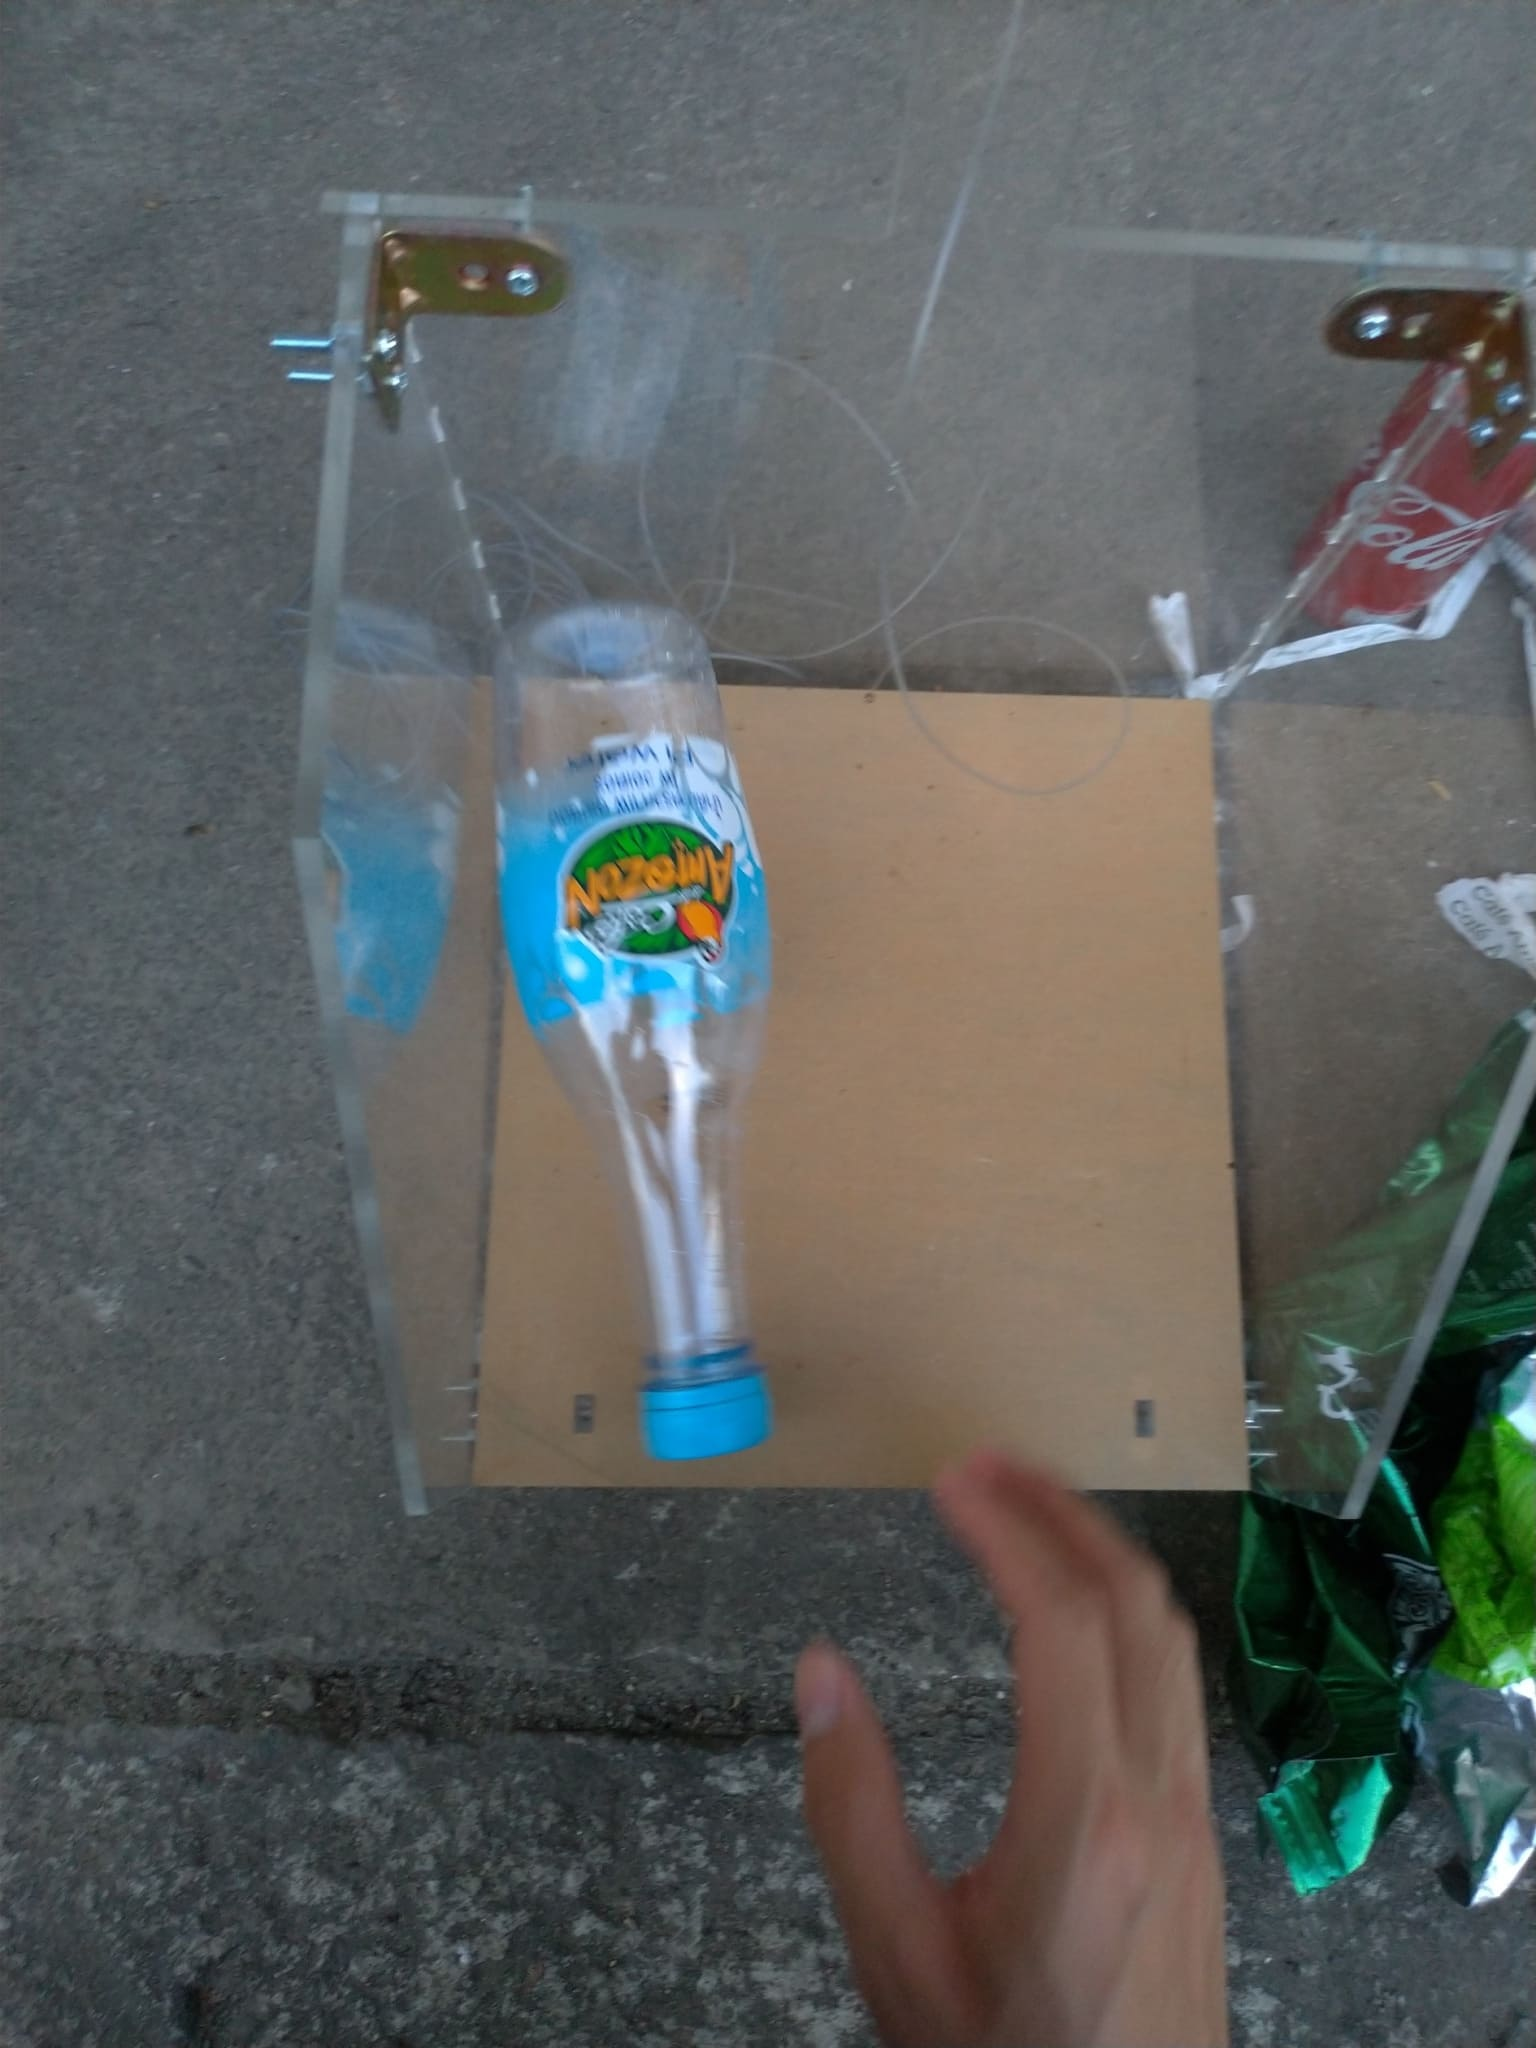AlCan: (1300, 358, 1517, 632)
Others: (1233, 997, 1536, 1903), (1137, 539, 1536, 705), (1418, 1374, 1533, 1913)
PlasticBottle: (494, 600, 765, 1471)
